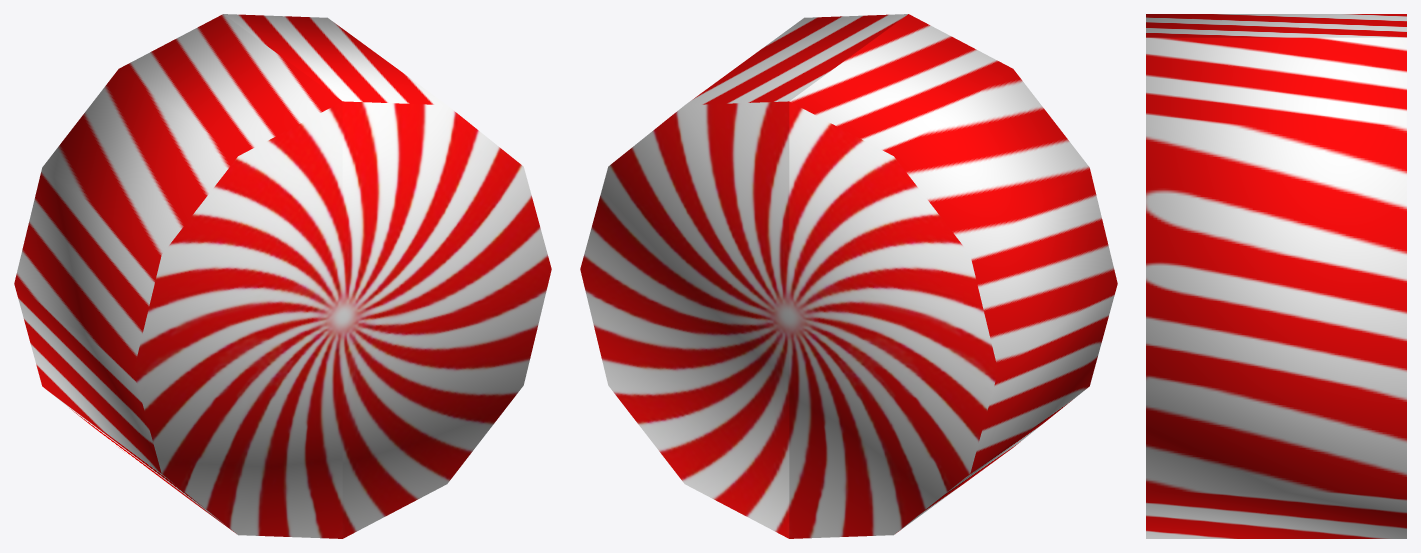
The model's file is candy3_cut.FBX.
3 renders of one model, left to right at view 1: azimuth 30°, elevation 25°; view 2: azimuth 150°, elevation 25°; view 3: azimuth 270°, elevation 25°, orthographic. The views are drawn at different scales.
Visible parts, largest first — view 1: candy3, Object01; view 2: candy3, Object01; view 3: Object01, candy3.
Boxes of the visible parts, bbox=[...] form: candy3: bbox=[14, 14, 342, 538]; Object01: bbox=[224, 14, 551, 538]; candy3: bbox=[789, 14, 1117, 538]; Object01: bbox=[580, 14, 907, 538]; Object01: bbox=[1146, 37, 1406, 538]; candy3: bbox=[1146, 14, 1406, 37].
Bounding box in the file's own units: 19.28 × 19.28 × 9.54.
